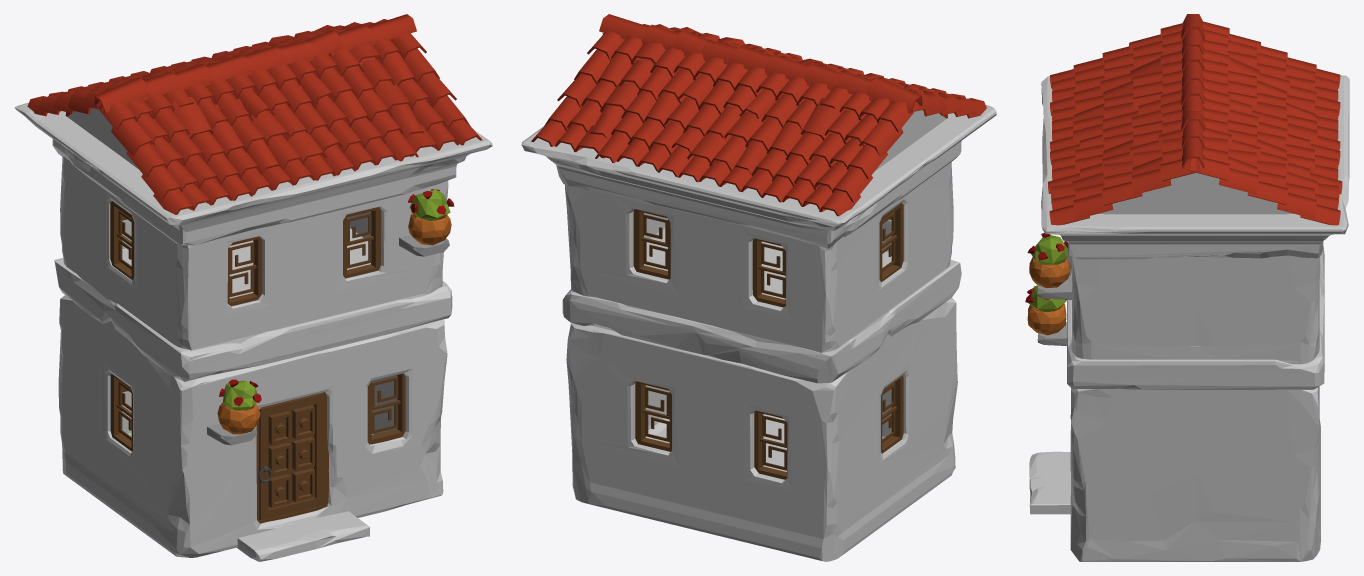
File: SM_building_greek_02.fbx
3 renders of one model, left to right at view 1: azimuth 30°, elevation 25°; view 2: azimuth 150°, elevation 25°; view 3: azimuth 270°, elevation 25°, orthographic. The views are drawn at different scales.
Visible parts, largest first — view 1: Object489, Box102; view 2: Object489; view 3: Object489.
Boxes of the visible parts, x1,y1,x2,y2 form: Object489: (14,14,492,561); Box102: (258,393,324,520); Object489: (521,14,996,561); Object489: (1025,14,1349,561).
Size of the model in its own units: 229 by 292 by 204.
